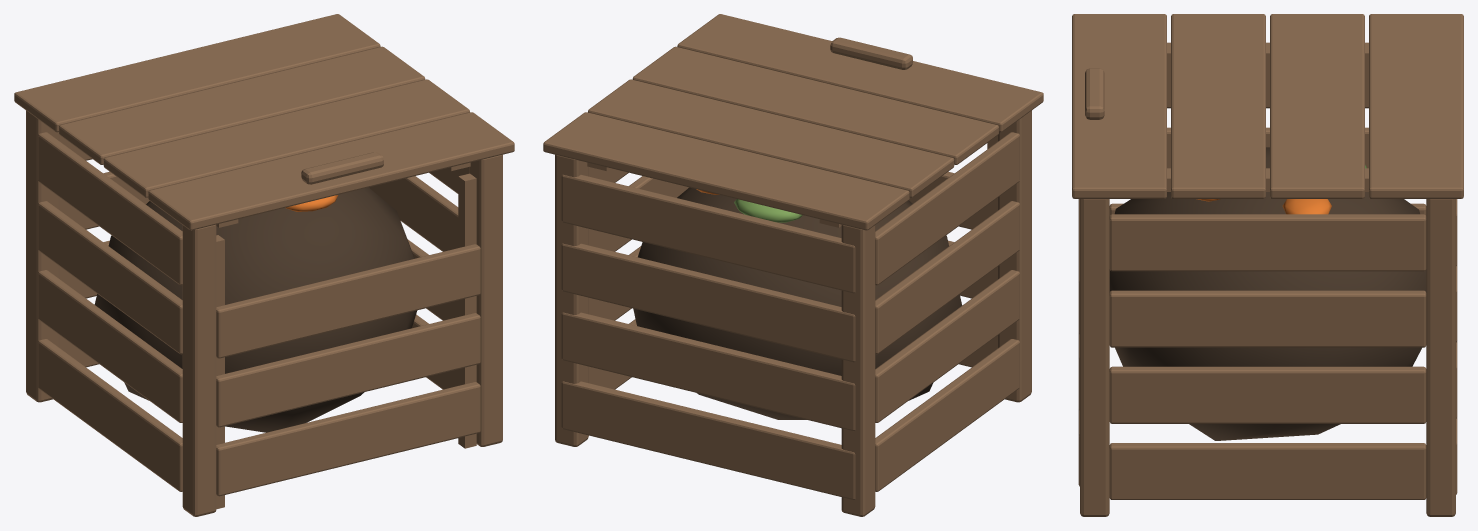
Rendered from compostBin.glb.
3 views of the same model, side by side, from view 1: azimuth 30°, elevation 25°; view 2: azimuth 150°, elevation 25°; view 3: azimuth 270°, elevation 25° (orthographic). The views are drawn at different scales.
Parts seen in each view (by area): view 1: bin, lid; view 2: bin, lid; view 3: bin, lid.
Boxes of the visible parts, <box> form: bin: <box>26,110,502,516</box>; lid: <box>14,14,514,230</box>; bin: <box>555,110,1031,516</box>; lid: <box>543,14,1043,230</box>; bin: <box>1078,66,1457,516</box>; lid: <box>1072,14,1463,198</box>.
Bounding box in the file's own units: 0.84 × 0.775 × 0.792.
